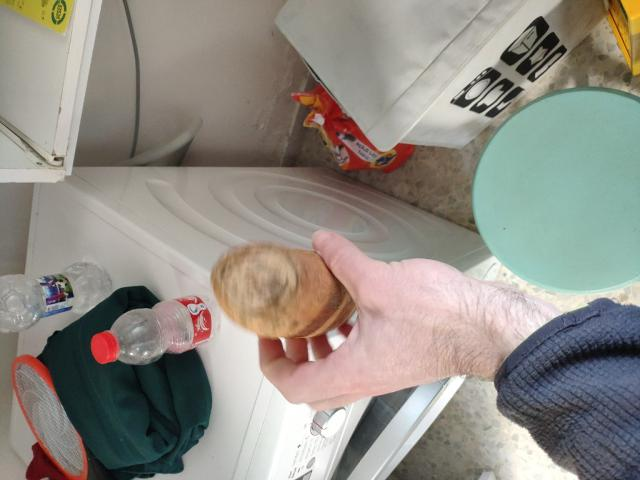sweet_potato: (202, 226, 364, 346)
